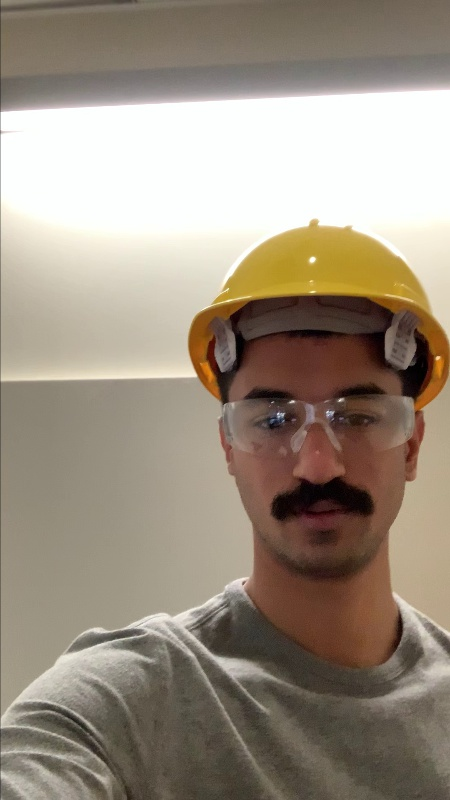glasses: (215, 387, 420, 464)
helmet: (178, 209, 450, 364)
